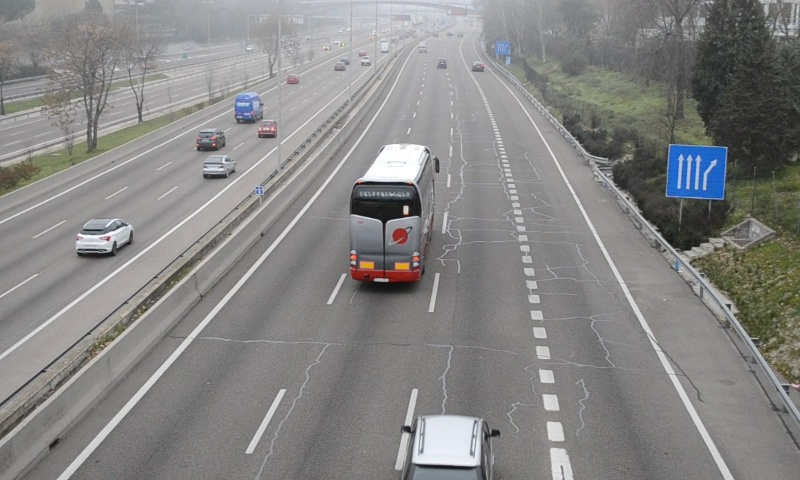bus: (348, 143, 433, 286)
car: (400, 416, 495, 480), (471, 60, 485, 72)
